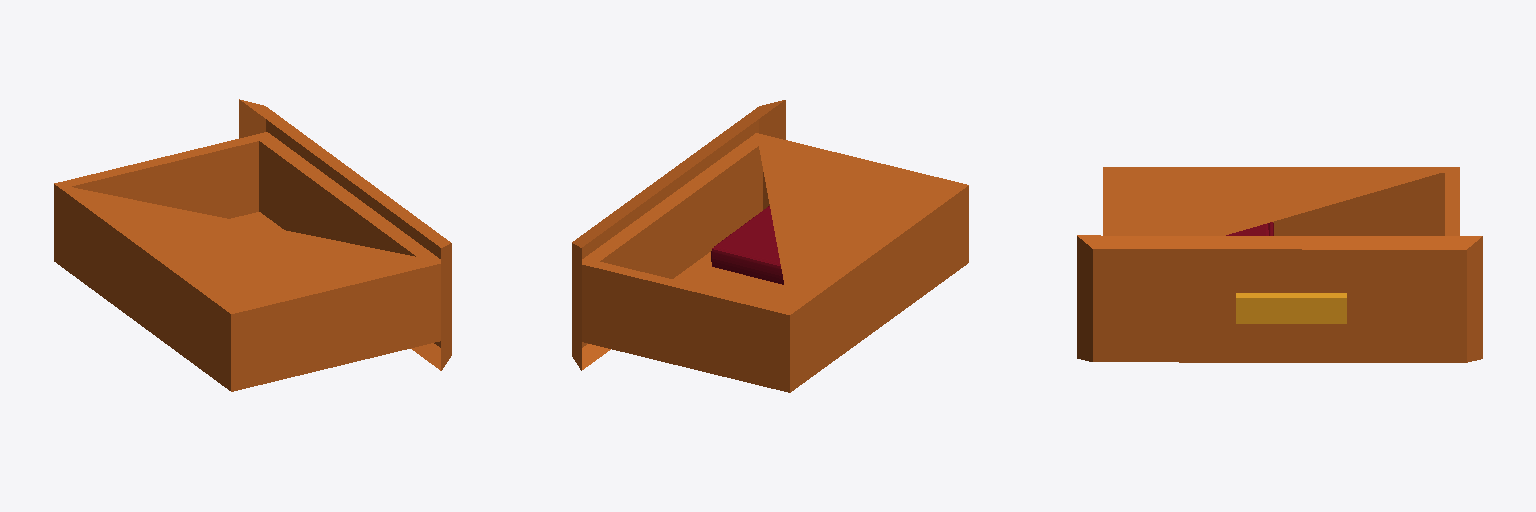
3 views of the same model, side by side, from view 1: azimuth 30°, elevation 25°; view 2: azimuth 150°, elevation 25°; view 3: azimuth 270°, elevation 25° (orthographic).
Parts seen in each view (by area): view 1: prueba_segundo_piso:polySurface497; view 2: prueba_segundo_piso:polySurface497; view 3: prueba_segundo_piso:polySurface497.
Boxes of the visible parts, <box> form: prueba_segundo_piso:polySurface497: <box>54,99,451,391</box>; prueba_segundo_piso:polySurface497: <box>572,100,968,392</box>; prueba_segundo_piso:polySurface497: <box>1077,167,1482,362</box>.
Size of the model in its own units: 0.9481 by 0.493 by 1.48.
Materials: 4 (4 with a texture image).